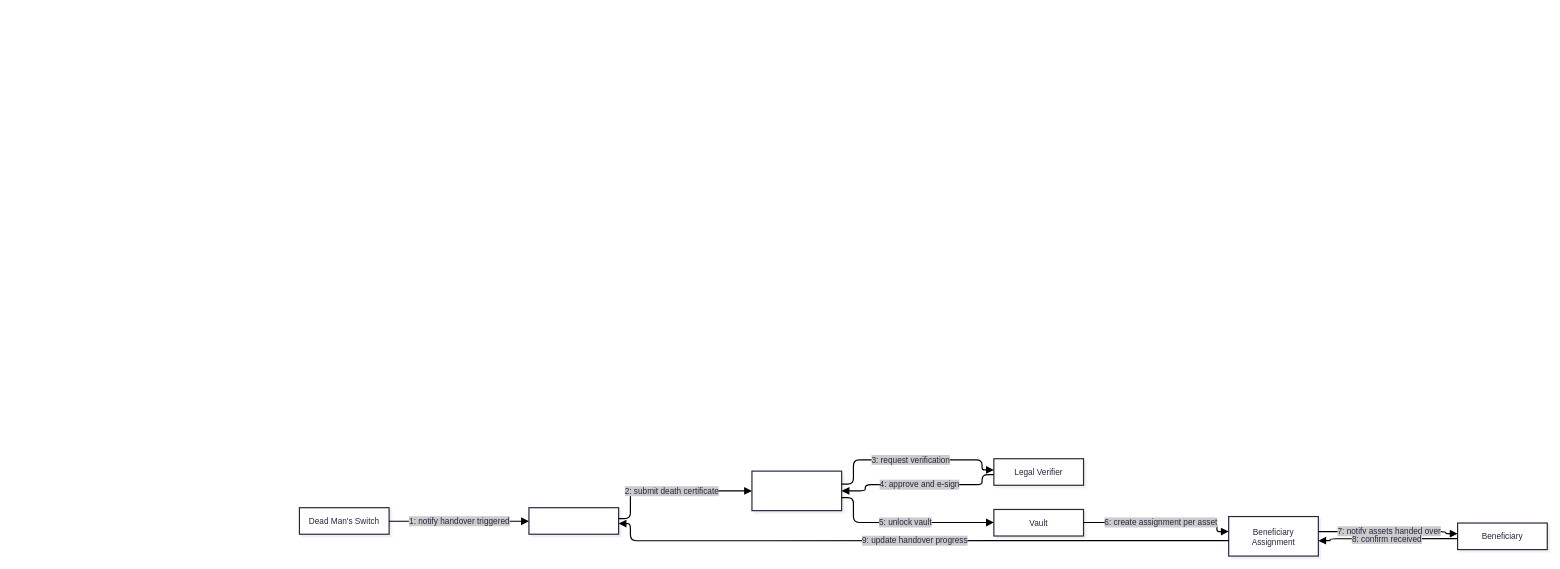
Some shapes in this 1560 by 569 pixel diagram are drawn without their labels. Each missing label, with the centre of its shape:
"Digital Executor" belongs at point 574,522.
"Legal Verification Request" belongs at point 797,491.
